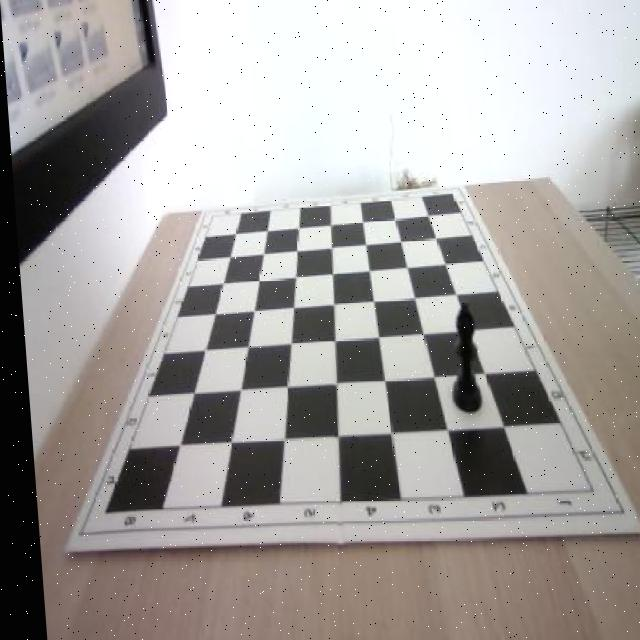bishop: (437, 301, 480, 414)
